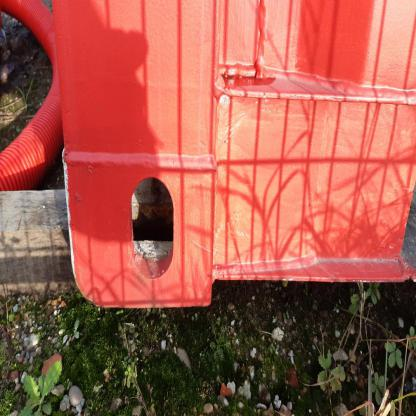CornerCasting: (62, 148, 216, 318)
